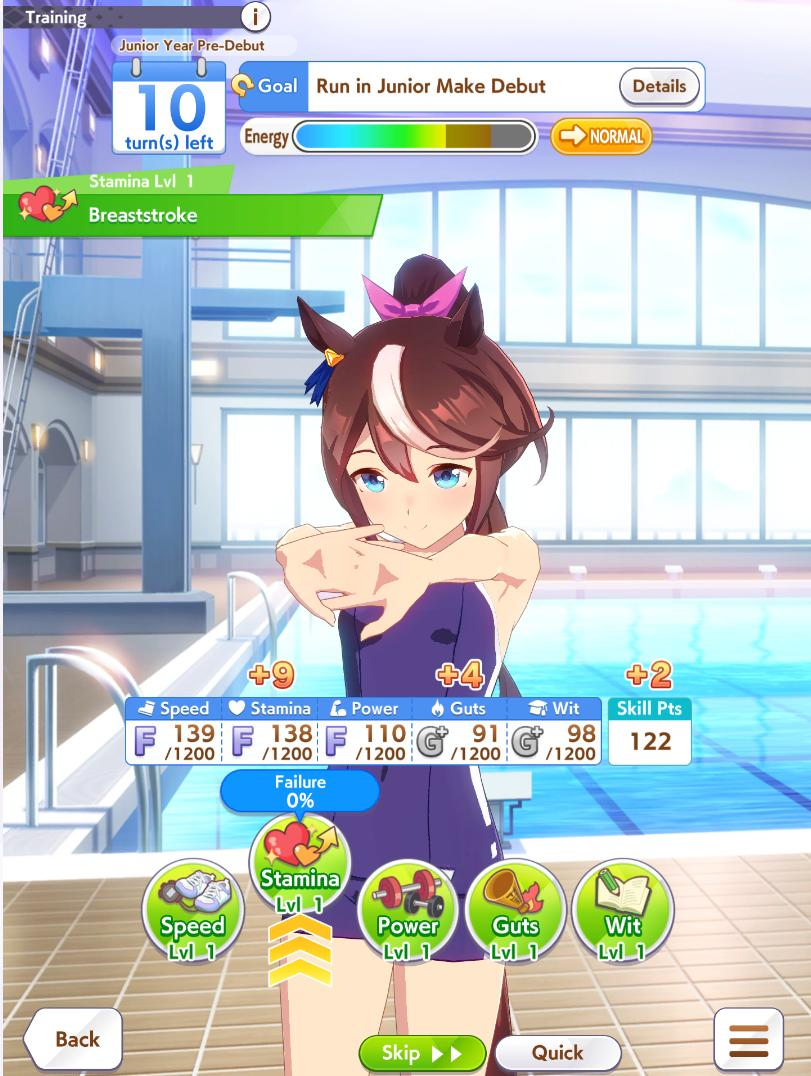Energy: (238, 115, 538, 159)
back: (23, 1002, 126, 1075)
fail: (220, 768, 382, 814)
guts: (468, 860, 569, 962)
normal: (550, 118, 657, 156)
power: (357, 857, 461, 966)
speed: (138, 855, 247, 963)
stamina: (249, 815, 354, 914)
turns: (109, 57, 231, 157)
wit: (575, 859, 676, 959)
